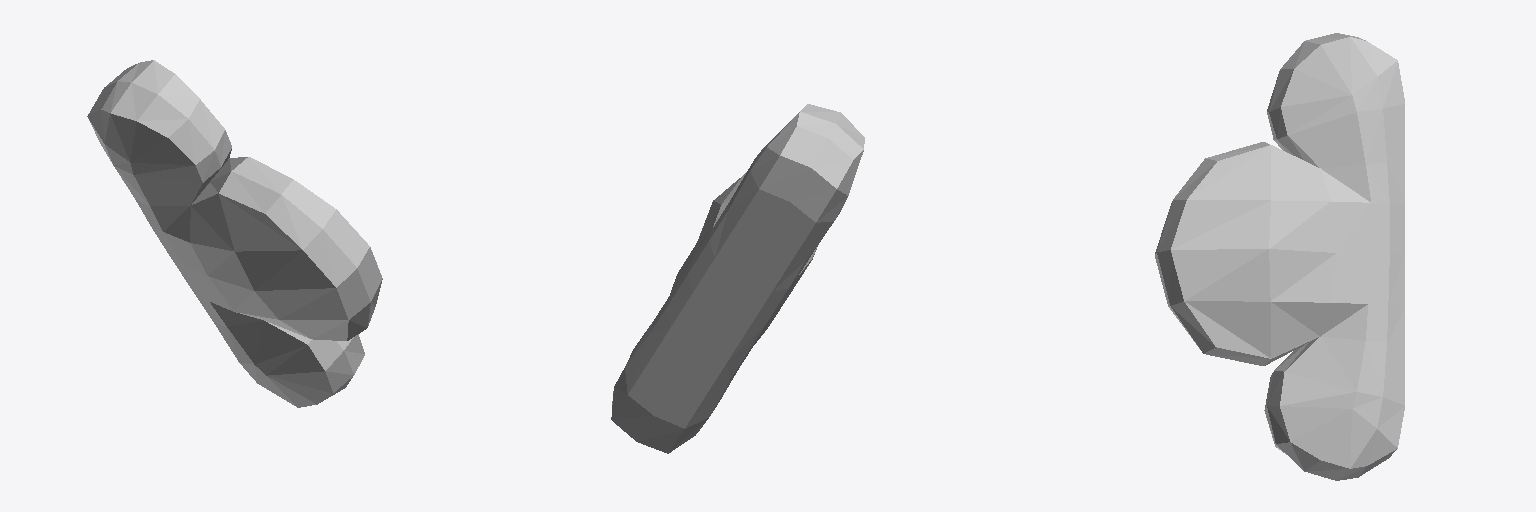
3 views of the same model, side by side, from view 1: azimuth 30°, elevation 25°; view 2: azimuth 150°, elevation 25°; view 3: azimuth 270°, elevation 25° (orthographic).
Visible parts, largest first — view 1: clouds_01_Plane.005_clouds_01_Plane.007; view 2: clouds_01_Plane.005_clouds_01_Plane.007; view 3: clouds_01_Plane.005_clouds_01_Plane.007.
Part boxes in pixels (left/top/right/bottom): clouds_01_Plane.005_clouds_01_Plane.007: left=87, top=60, right=382, bottom=407; clouds_01_Plane.005_clouds_01_Plane.007: left=611, top=104, right=864, bottom=453; clouds_01_Plane.005_clouds_01_Plane.007: left=1155, top=33, right=1404, bottom=480.
Size of the model in its own units: 2.18 by 3.22 by 1.96.